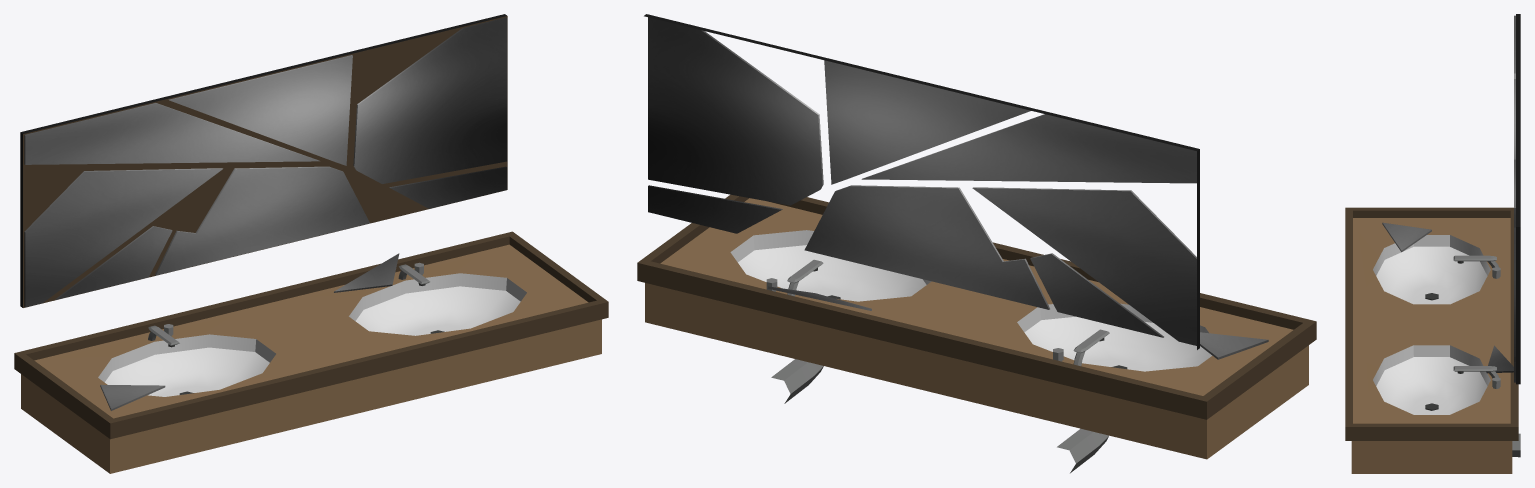
The model's file is DoublePublicSink.glb.
3 renders of one model, left to right at view 1: azimuth 30°, elevation 25°; view 2: azimuth 150°, elevation 25°; view 3: azimuth 270°, elevation 25°, orthographic. The views are drawn at different scales.
Visible parts, largest first — view 1: Sink, Mirror; view 2: Mirror, Sink; view 3: Sink, Mirror.
Part boxes in pixels (x1,y1,x2,y2): Sink: (14, 14, 608, 473); Mirror: (24, 17, 507, 410); Mirror: (648, 17, 1268, 359); Sink: (637, 14, 1316, 473); Sink: (1345, 14, 1520, 473); Mirror: (1382, 15, 1515, 382).
Size of the model in its own units: 1.78 by 1.06 by 0.6032.
Materials: 2 (2 with a texture image).
